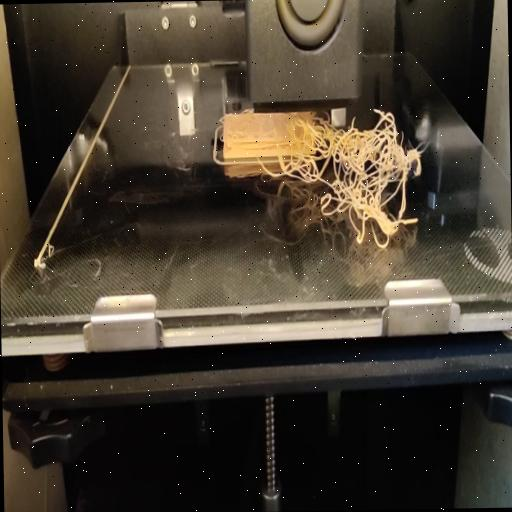spaghetti: (274, 106, 427, 256)
